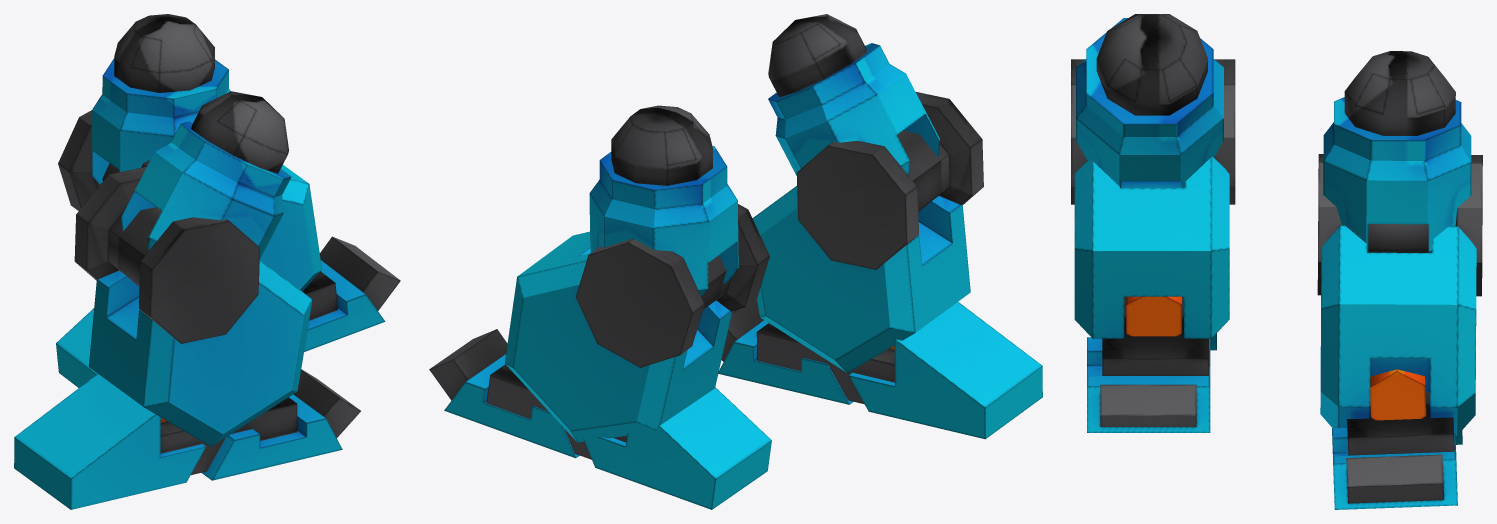
The model's file is Bottom_Idle5.obj.
3 views of the same model, side by side, from view 1: azimuth 30°, elevation 25°; view 2: azimuth 150°, elevation 25°; view 3: azimuth 270°, elevation 25° (orthographic). The views are drawn at different scales.
Parts seen in each view (by area): view 1: Object013, Object014, Object012, Object009, Object011, Object010; view 2: Object013, Object010, Object014, Object011, Object009, Object012; view 3: Object010, Object013, Object009, Object012, Object014, Object011.
Part boxes in pixels (x1,y1,x2,y2): Object013: (74, 166, 312, 446); Object014: (14, 369, 360, 509); Object012: (121, 91, 291, 259); Object009: (92, 14, 230, 184); Object011: (56, 236, 400, 387); Object010: (58, 110, 321, 291); Object013: (752, 92, 983, 372); Object010: (505, 204, 769, 442); Object014: (718, 299, 1042, 439); Object011: (429, 329, 771, 509); Object009: (589, 105, 738, 296); Object012: (768, 14, 939, 175); Object010: (1317, 154, 1482, 435); Object013: (1071, 59, 1235, 338); Object009: (1323, 51, 1471, 252); Object012: (1076, 14, 1223, 187); Object014: (1087, 296, 1216, 432); Object011: (1332, 369, 1462, 509).
Size of the model in its own units: 128 by 103 by 94.65.
